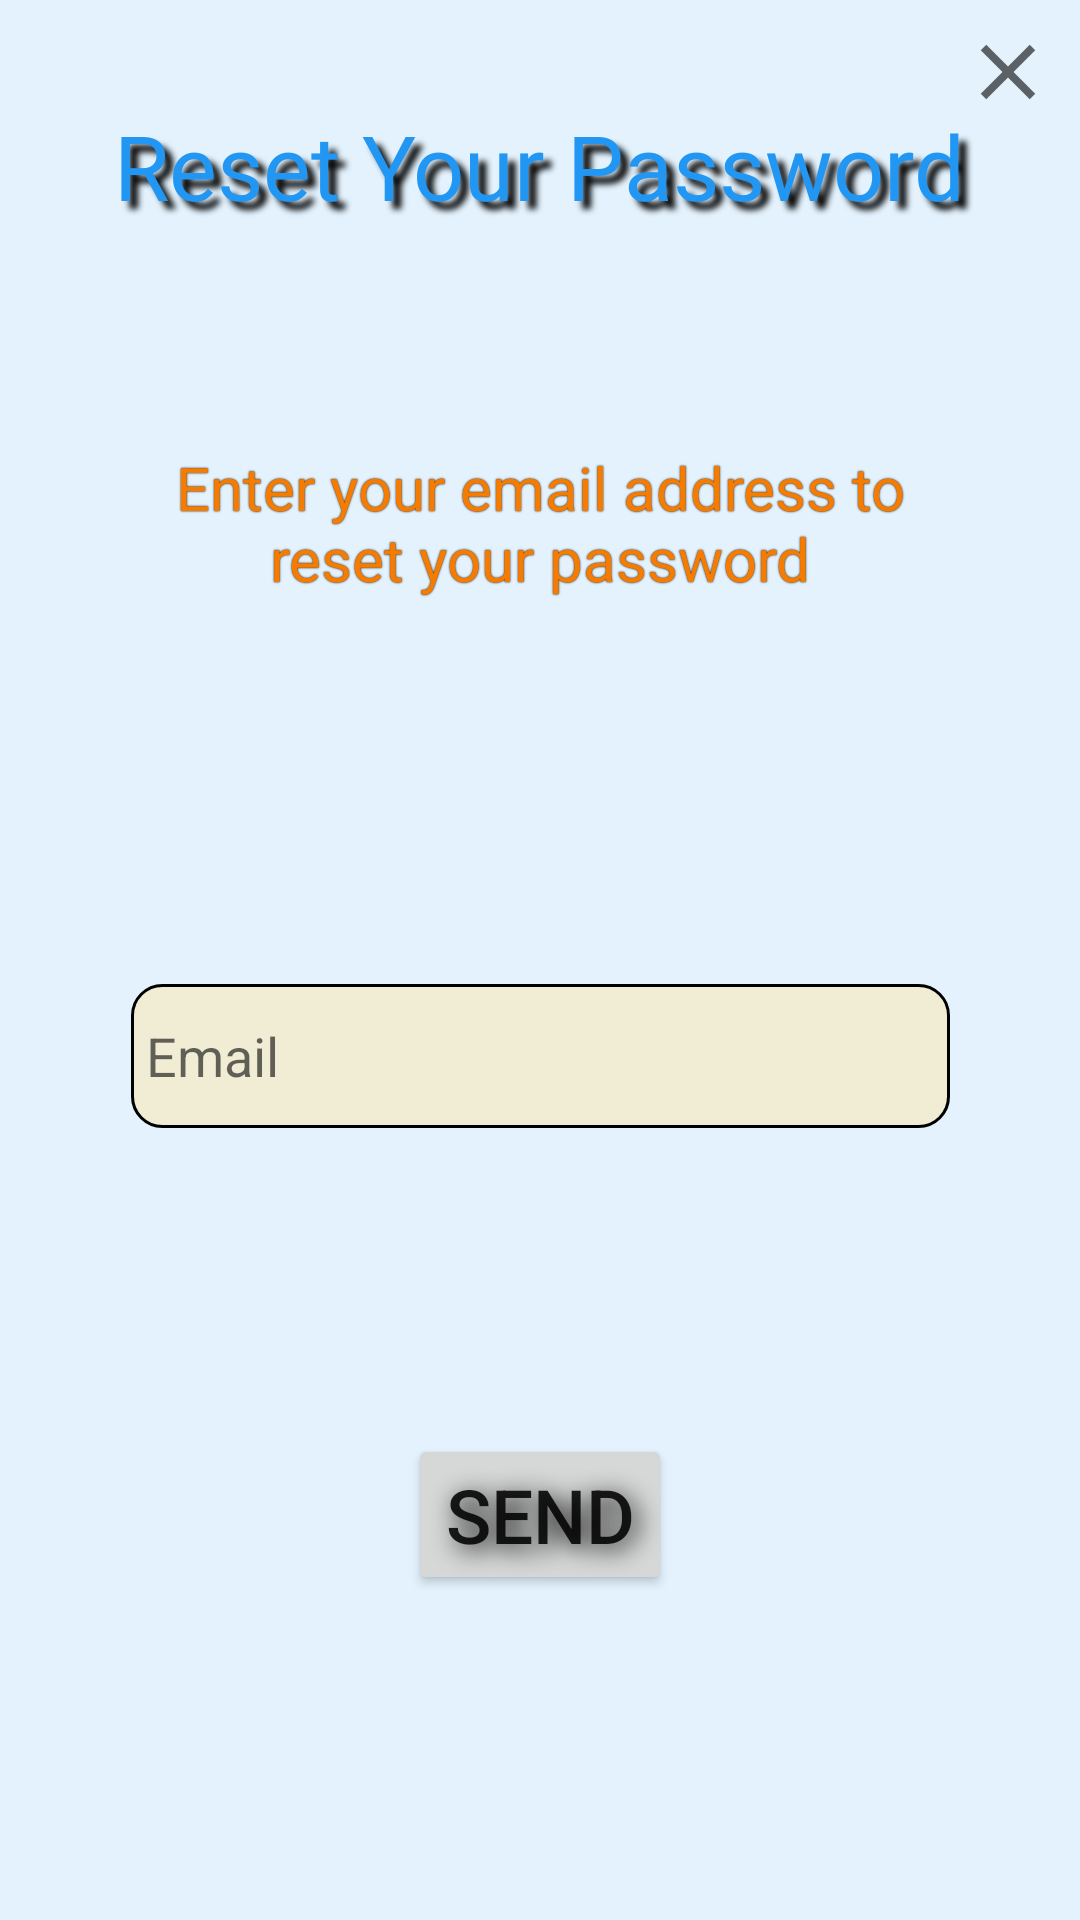

Where to tap for icons on this 1080 x 1920 app screen, as (x,y):
Exit: (1008,72)
